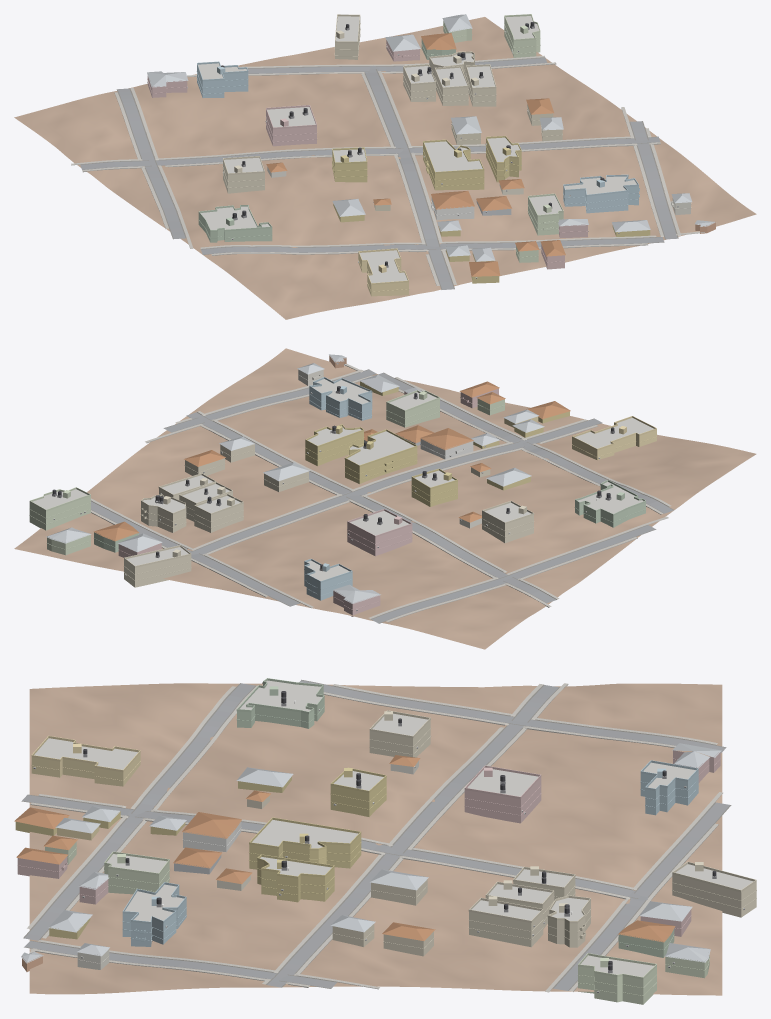
3 views of the same model, one above another, from view 1: azimuth 30°, elevation 25°; view 2: azimuth 150°, elevation 25°; view 3: azimuth 270°, elevation 25° (orthographic). The views are drawn at different scales.
Visible parts, largest first — view 1: Terrain-col, Buildings-col, Roads-col, Sidewalks-col, Details; view 2: Terrain-col, Buildings-col, Roads-col, Details, Sidewalks-col; view 3: Terrain-col, Buildings-col, Roads-col, Details, Sidewalks-col.
Boxes of the visible parts, box(x1,y1,x2,y2) form: Terrain-col: box(14, 17, 756, 319); Buildings-col: box(147, 14, 715, 296); Roads-col: box(80, 57, 678, 289); Sidewalks-col: box(71, 55, 704, 285); Details: box(147, 14, 691, 291); Terrain-col: box(14, 348, 756, 649); Buildings-col: box(29, 354, 656, 616); Roads-col: box(91, 369, 674, 623); Details: box(29, 363, 657, 611); Sidewalks-col: box(91, 364, 671, 622); Terrain-col: box(29, 683, 722, 995); Buildings-col: box(14, 680, 756, 1004); Roads-col: box(21, 679, 731, 990); Details: box(17, 678, 756, 996); Sidewalks-col: box(27, 682, 722, 992).
Bounding box in the file's own units: 268 × 21.27 × 275.
